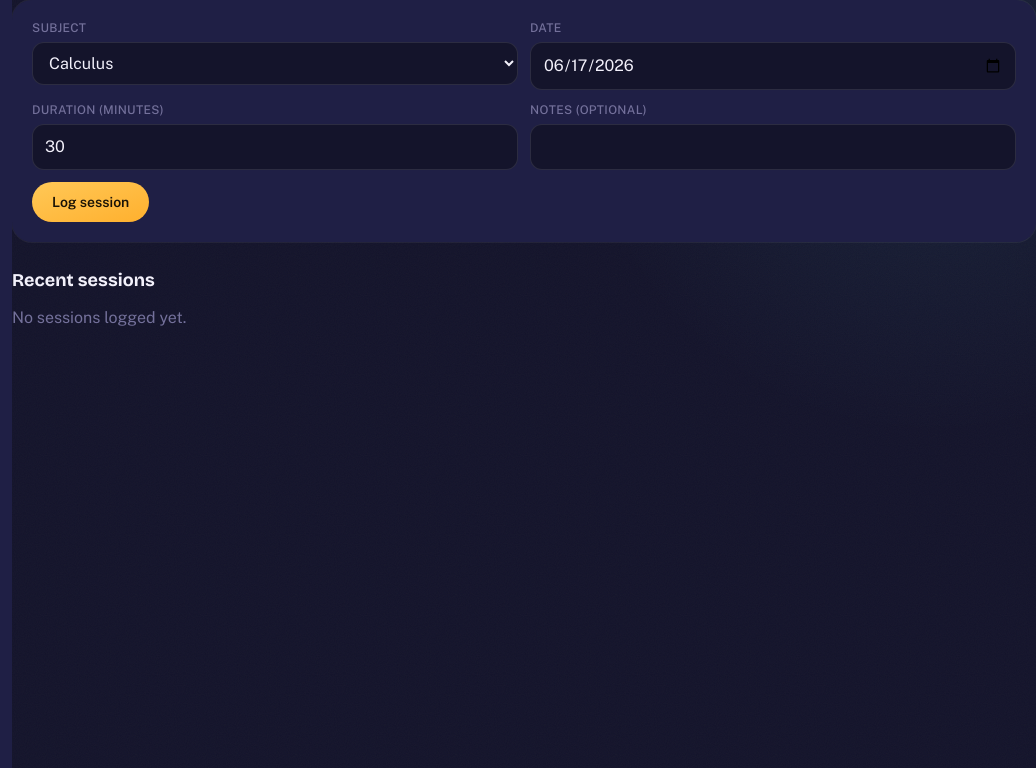
Test: SessionLogger › logs a session and prepends it to the list
Replace the text in the number field labelled "Duration (minutes)" with "45". click: (275, 147)
box: [32,124,518,170]
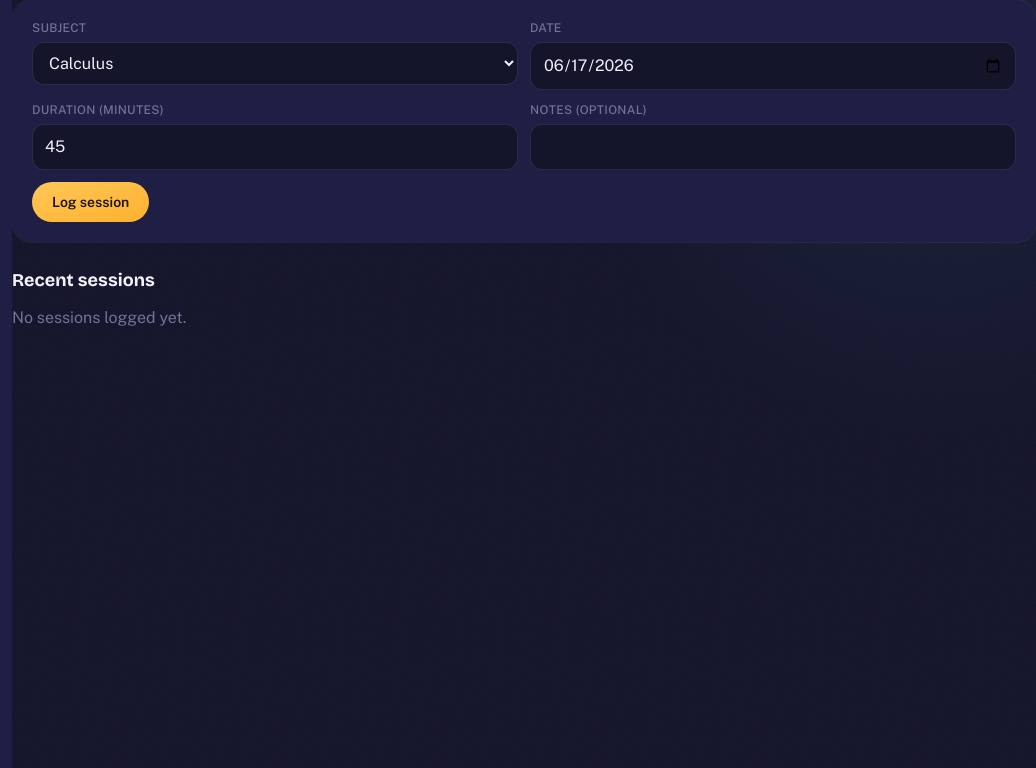
Click the button "Log session". click: (91, 202)
box: [32,182,149,222]
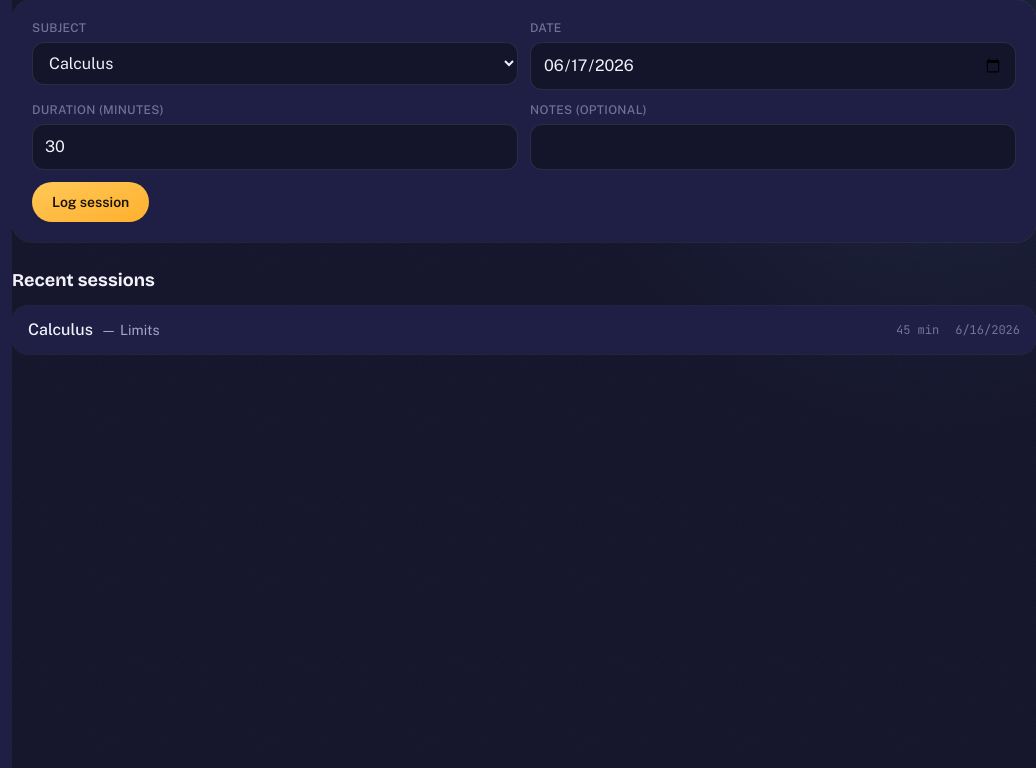
Expected: the text "45 min" is shown, [896,322,939,338]
